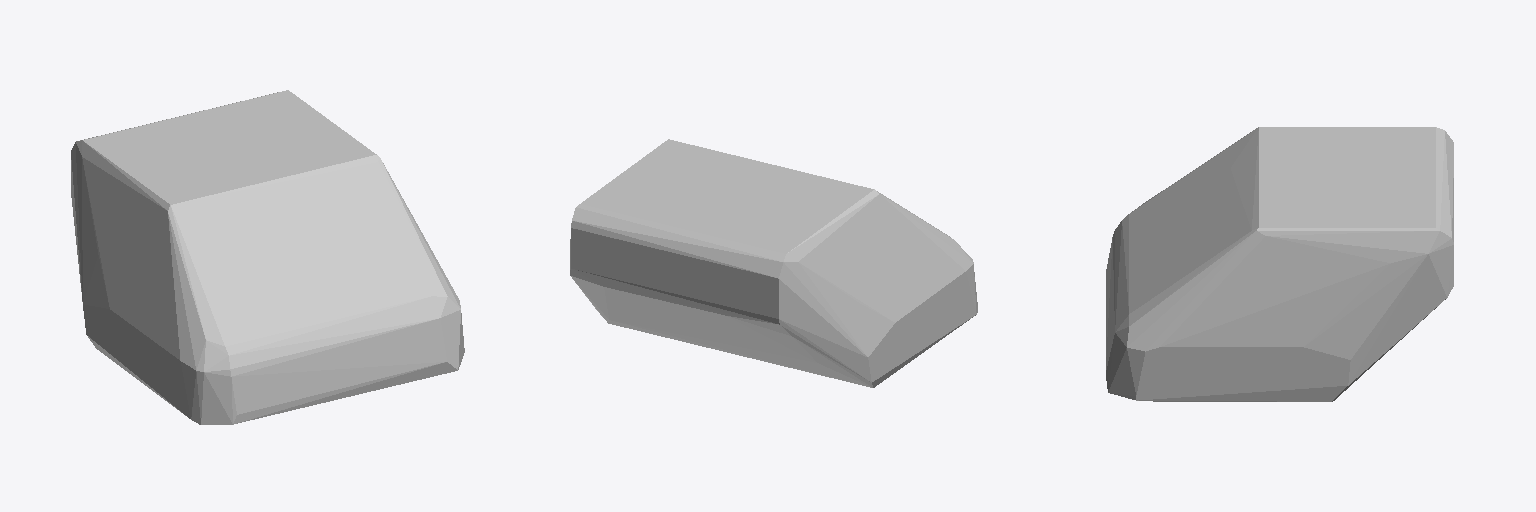
Rendered from r_distal_convex.obj.
3 renders of one model, left to right at view 1: azimuth 30°, elevation 25°; view 2: azimuth 150°, elevation 25°; view 3: azimuth 270°, elevation 25°, orthographic.
Parts seen in each view (by area): view 1: convex_0; view 2: convex_0; view 3: convex_0.
Boxes of the visible parts, <box> form: convex_0: <box>71,90,464,424</box>; convex_0: <box>570,139,977,387</box>; convex_0: <box>1106,127,1453,401</box>.
Bounding box in the file's own units: 0.0393 × 0.0226 × 0.0434.